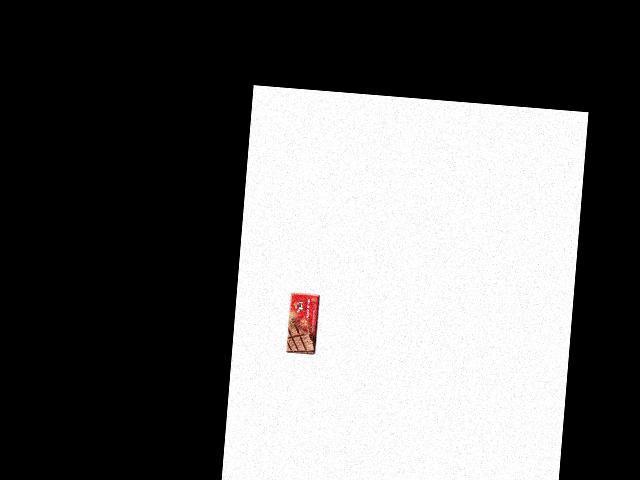chocolate: (284, 291, 321, 356)
